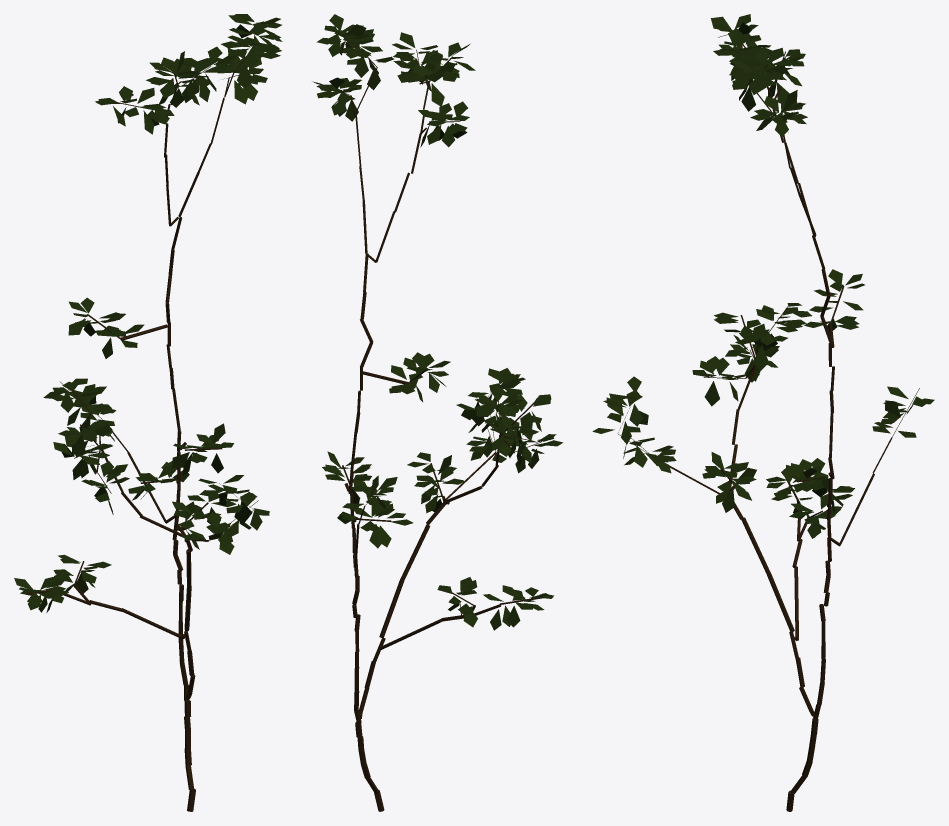
File: 2022_tree_473.obj
The picture shows the model from 3 angles, left to right: view 1: azimuth 30°, elevation 25°; view 2: azimuth 150°, elevation 25°; view 3: azimuth 270°, elevation 25°; orthographic projection. The views are drawn at different scales.
Visible parts, largest first — view 1: Leaves, TrunkAndBranches; view 2: Leaves, TrunkAndBranches; view 3: Leaves, TrunkAndBranches.
Boxes of the visible parts, left/top/right/bottom form: Leaves: left=14, top=14, right=282, bottom=612; TrunkAndBranches: left=26, top=22, right=258, bottom=811; Leaves: left=312, top=14, right=563, bottom=630; TrunkAndBranches: left=337, top=32, right=543, bottom=811; Leaves: left=592, top=14, right=934, bottom=538; TrunkAndBranches: left=617, top=44, right=919, bottom=811.
Bounding box in the file's own units: 3.16 × 9.64 × 3.84.
